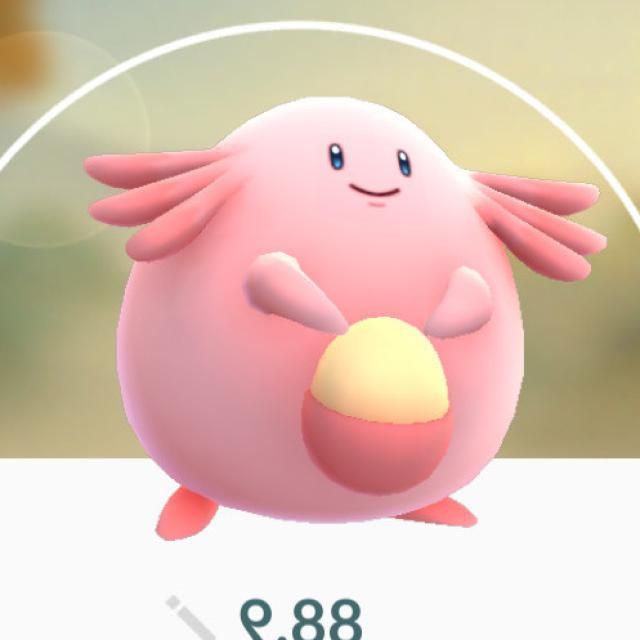Chansey: (108, 97, 530, 536)
